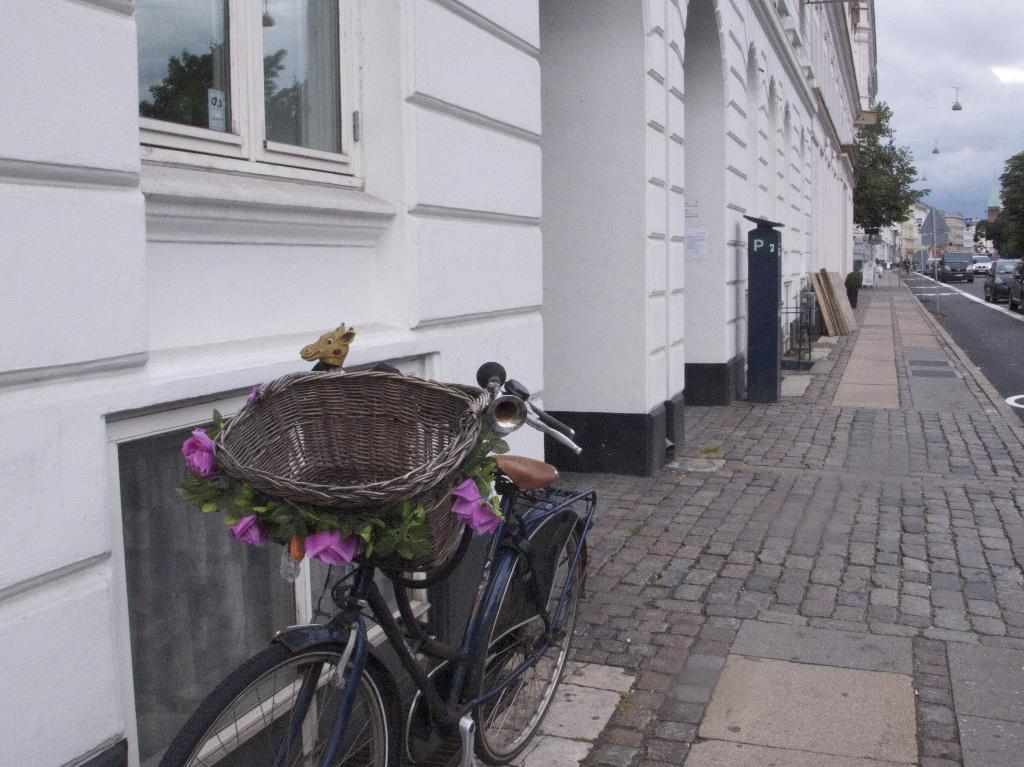Animal: (298, 324, 351, 373)
